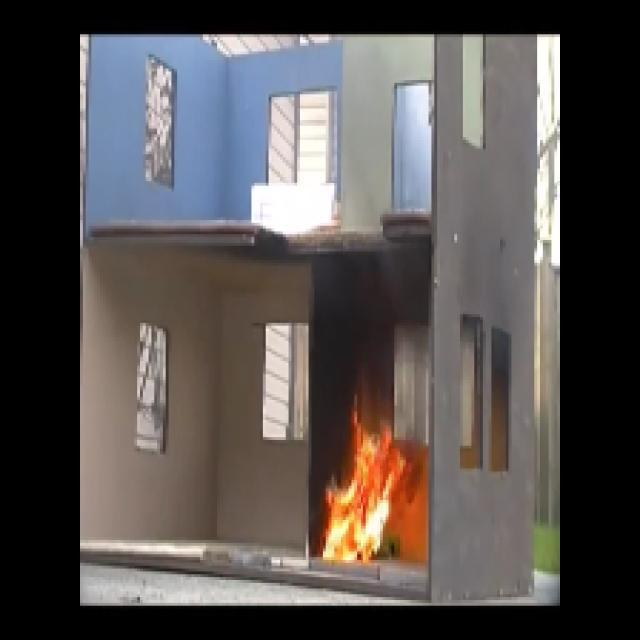Fire: (315, 420, 399, 560)
Smoke: (320, 251, 400, 343)
